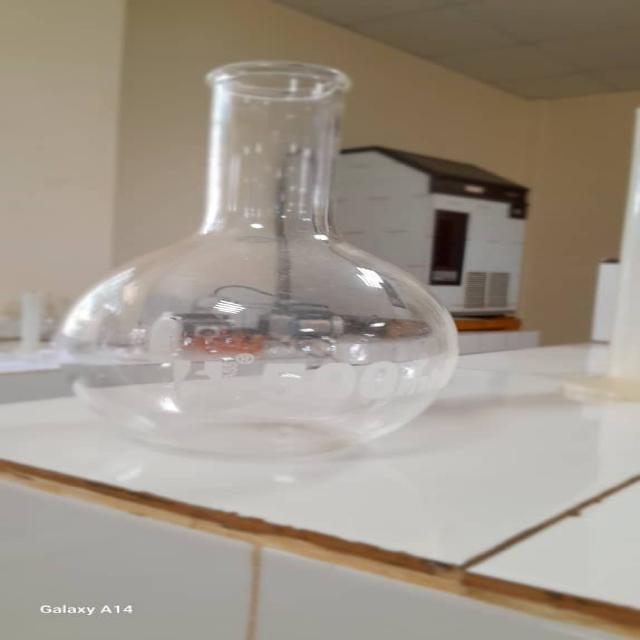Round Bottom Flask: (58, 58, 507, 463)
